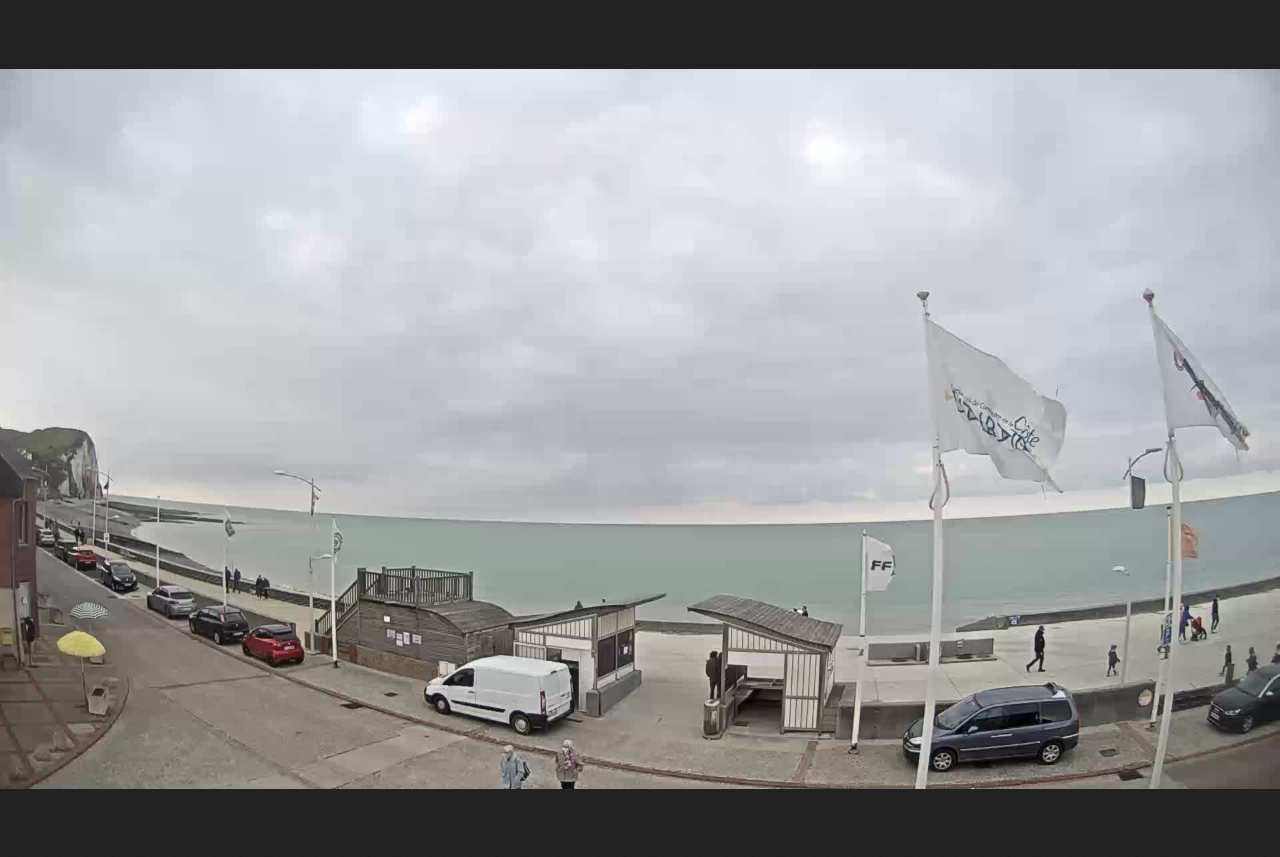maybe: (915, 316, 1070, 494), (1144, 307, 1269, 458), (218, 507, 241, 544)
